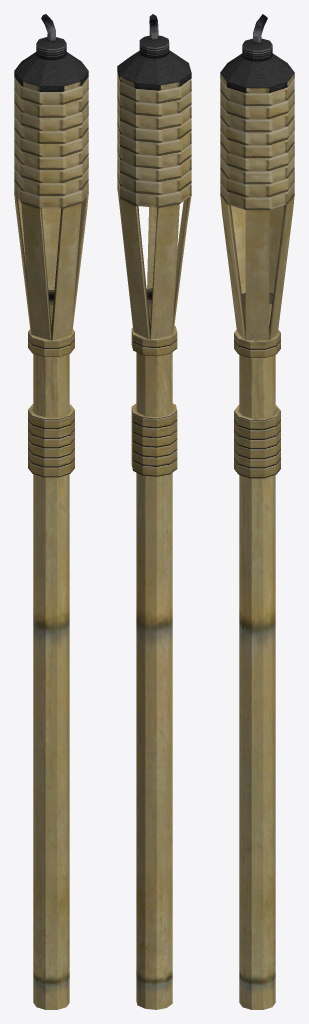
File: Tiki Torch.obj
3 views of the same model, side by side, from view 1: azimuth 90°, elevation 25°; view 2: azimuth 150°, elevation 25°; view 3: azimuth 270°, elevation 25° (orthographic).
Parts seen in each view (by area): view 1: Mesh_0183.rip_Tex_009_Mesh_0183.rip_Tex_009_Tex_0095_0.dds.001_t, Mesh_0183.rip_Tex_009_Mesh_0183.rip_Tex_009_Tex_0095_0.dds_torch, Mesh_0183.rip_Tex_009_Mesh_0183.rip_Tex_009_Tex_0095_0.dds.002_t; view 2: Mesh_0183.rip_Tex_009_Mesh_0183.rip_Tex_009_Tex_0095_0.dds.001_t, Mesh_0183.rip_Tex_009_Mesh_0183.rip_Tex_009_Tex_0095_0.dds_torch, Mesh_0183.rip_Tex_009_Mesh_0183.rip_Tex_009_Tex_0095_0.dds.002_t; view 3: Mesh_0183.rip_Tex_009_Mesh_0183.rip_Tex_009_Tex_0095_0.dds.001_t, Mesh_0183.rip_Tex_009_Mesh_0183.rip_Tex_009_Tex_0095_0.dds_torch, Mesh_0183.rip_Tex_009_Mesh_0183.rip_Tex_009_Tex_0095_0.dds.002_t.
Part boxes in pixels (x1,y1,x2,y2): Mesh_0183.rip_Tex_009_Mesh_0183.rip_Tex_009_Tex_0095_0.dds.001_t: (15,203,86,671); Mesh_0183.rip_Tex_009_Mesh_0183.rip_Tex_009_Tex_0095_0.dds_torch: (33,532,69,1009); Mesh_0183.rip_Tex_009_Mesh_0183.rip_Tex_009_Tex_0095_0.dds.002_t: (14,14,88,263); Mesh_0183.rip_Tex_009_Mesh_0183.rip_Tex_009_Tex_0095_0.dds.001_t: (119,200,186,691); Mesh_0183.rip_Tex_009_Mesh_0183.rip_Tex_009_Tex_0095_0.dds_torch: (136,532,172,1009); Mesh_0183.rip_Tex_009_Mesh_0183.rip_Tex_009_Tex_0095_0.dds.002_t: (117,14,191,288); Mesh_0183.rip_Tex_009_Mesh_0183.rip_Tex_009_Tex_0095_0.dds.001_t: (222,205,293,697); Mesh_0183.rip_Tex_009_Mesh_0183.rip_Tex_009_Tex_0095_0.dds_torch: (239,540,275,1009); Mesh_0183.rip_Tex_009_Mesh_0183.rip_Tex_009_Tex_0095_0.dds.002_t: (220,14,294,314).
Bounding box in the file's own units: 0.11 × 1.67 × 0.114.
